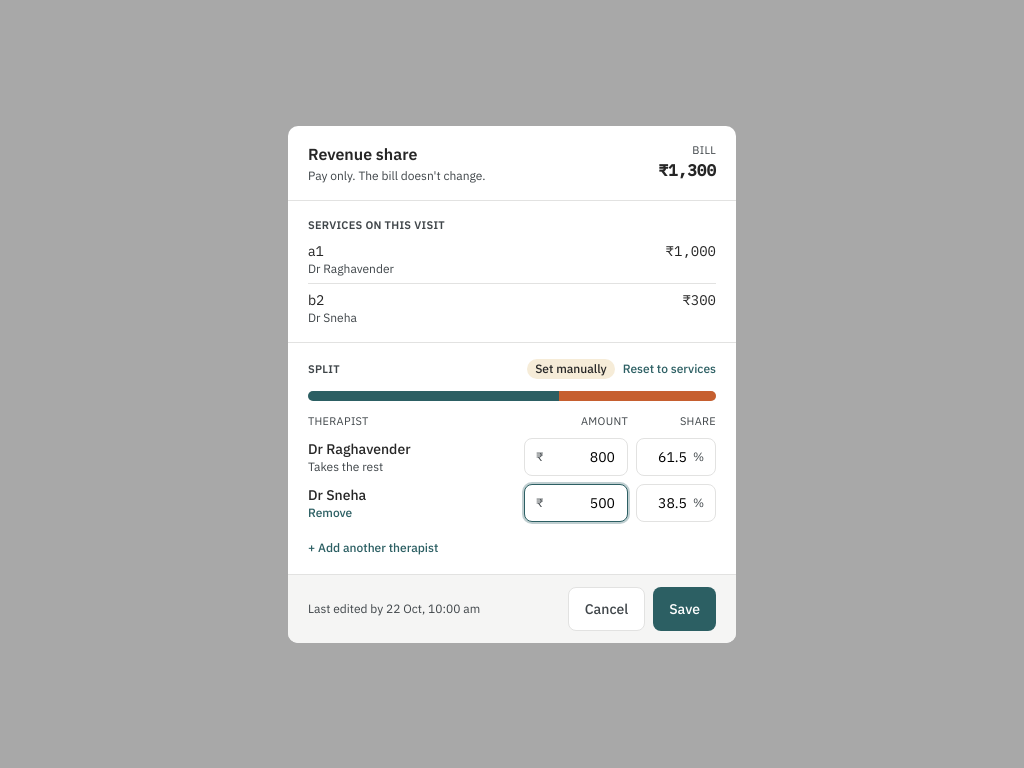
Test: RevenueShareEditor › previews what Reset to services will change before asking
The image size is (1024, 768).
Click the button "Reset to services" at (669,369), box 623,361 -> 716,377
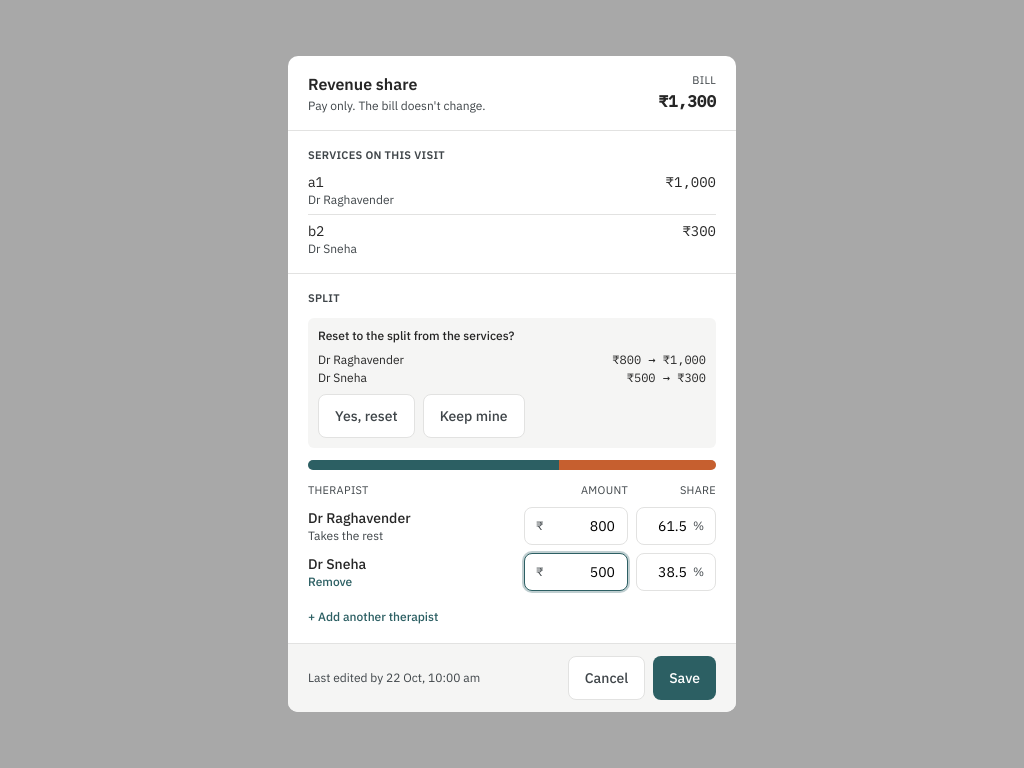
Result: the text "Reset to the split from the services?" is shown at 318,328 -> 514,343
Result: the text "₹800 → ₹1,000" is shown at 612,352 -> 706,368
Result: the text "₹500 → ₹300" is shown at 627,370 -> 706,386
